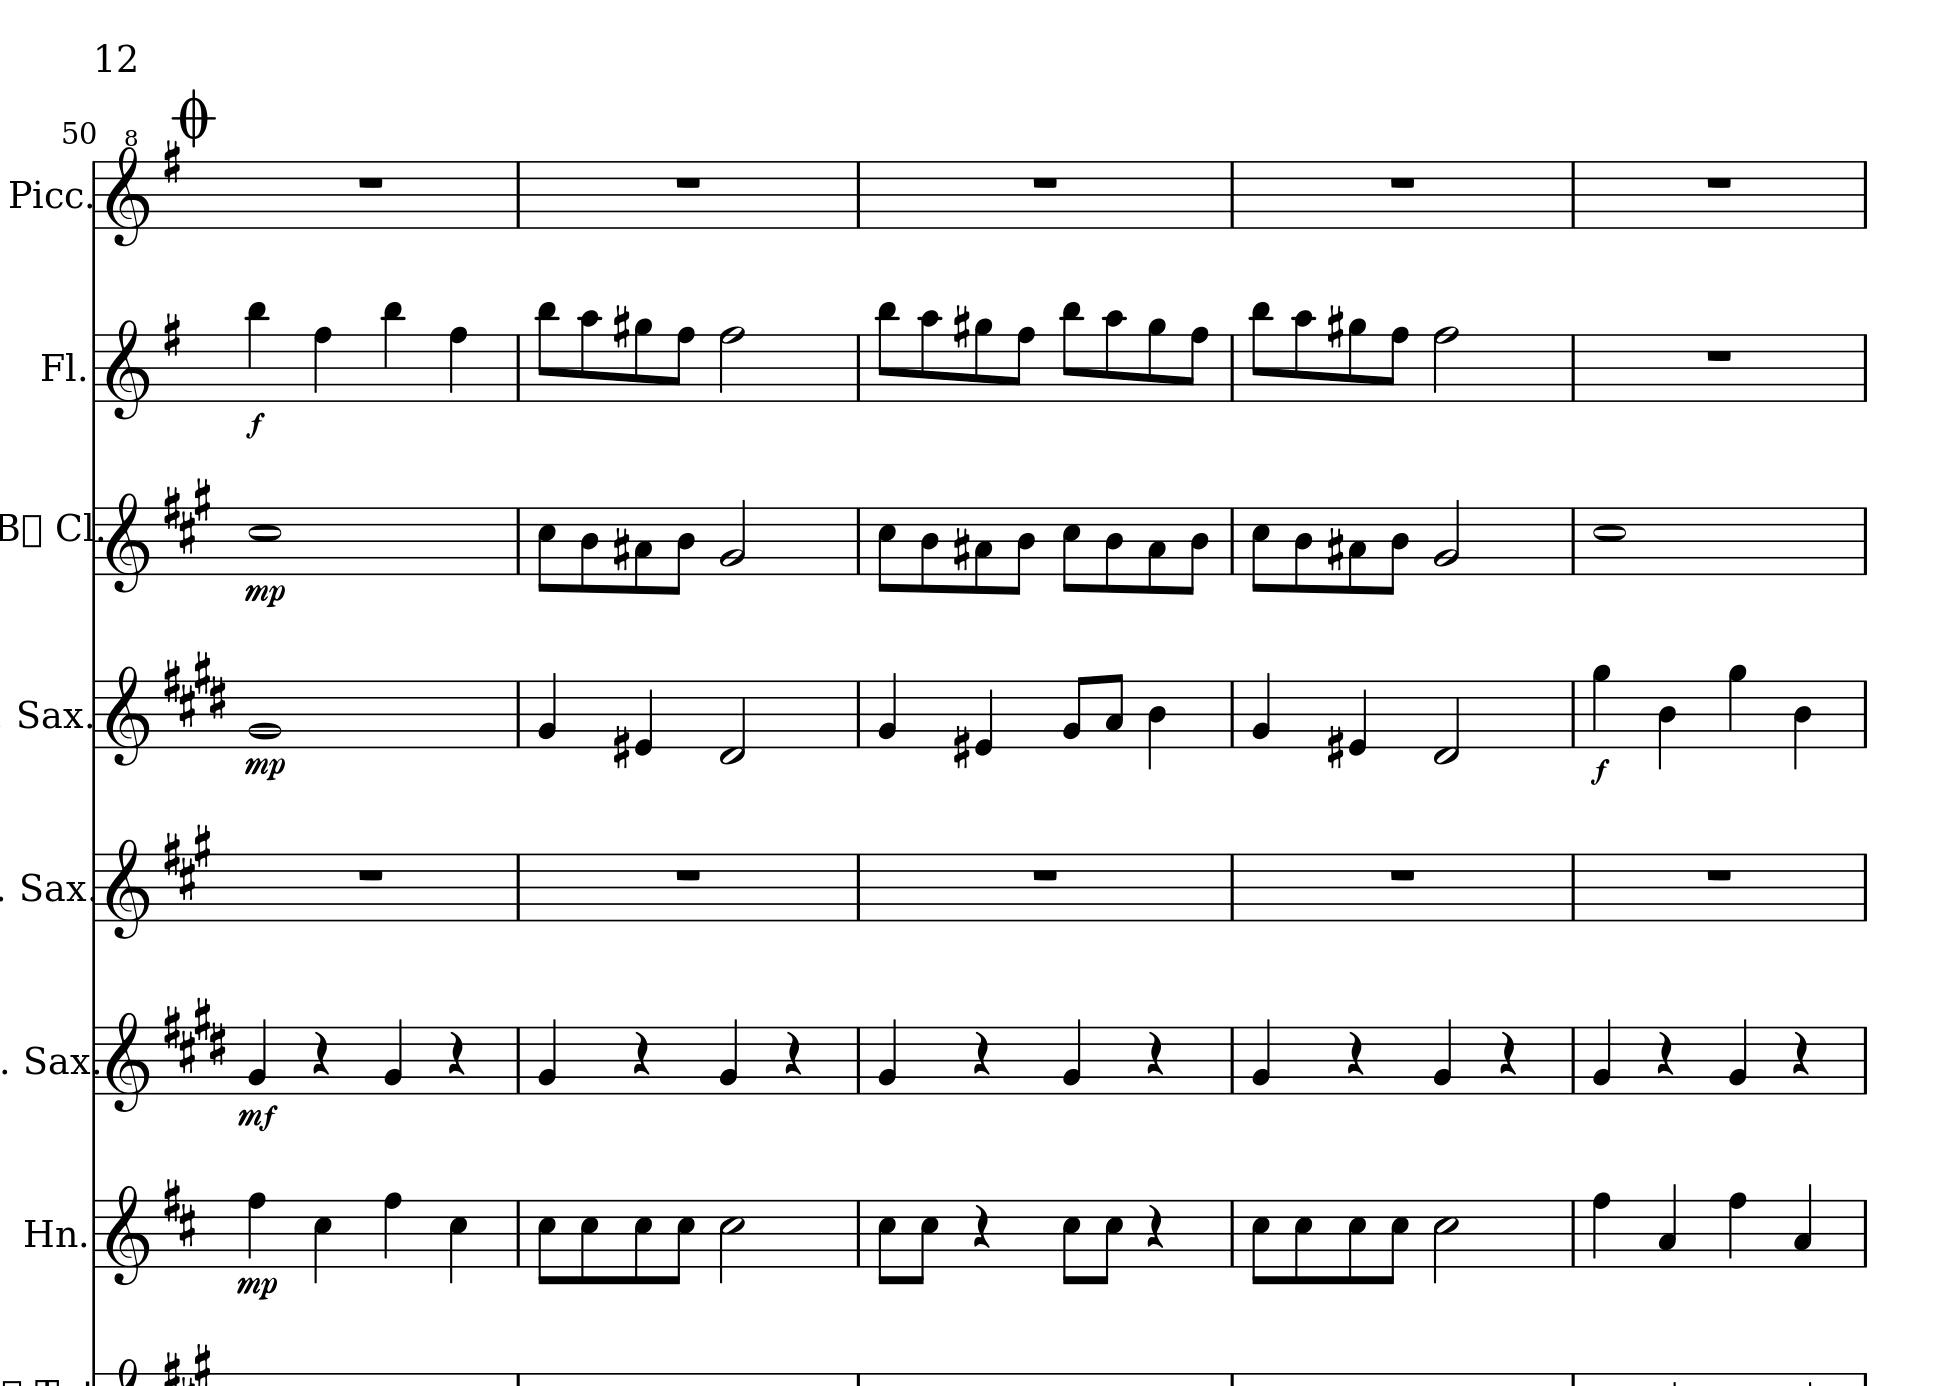0: (79, 118, 96, 147)
1: (94, 40, 111, 73)
1_2: (247, 676, 280, 748)
1_5: (1591, 505, 1627, 577), (247, 504, 282, 574)
2: (115, 40, 136, 73)
2_-1: (718, 676, 745, 765), (1434, 678, 1461, 765)
2_2: (718, 496, 747, 576), (1432, 496, 1461, 574)
2_5: (717, 1198, 745, 1285), (1432, 1198, 1459, 1285)
2_8: (1432, 324, 1461, 403), (718, 324, 745, 403)
4_0: (973, 678, 994, 756), (633, 678, 654, 754), (1347, 678, 1368, 754)
4_11: (379, 298, 405, 403), (244, 298, 268, 403)
4_2: (1431, 1015, 1455, 1096), (535, 1015, 559, 1095), (535, 670, 559, 748), (876, 1015, 898, 1096), (1062, 1015, 1084, 1096), (1251, 1015, 1273, 1096), (1591, 1015, 1614, 1096), (382, 1015, 405, 1095), (1728, 1015, 1750, 1095), (1251, 670, 1273, 748), (718, 1015, 739, 1096), (877, 670, 898, 748), (247, 1015, 268, 1093)
4_3: (1656, 1182, 1680, 1267), (1791, 1182, 1815, 1267)
4_4: (1791, 678, 1815, 769), (1146, 678, 1168, 769), (1656, 678, 1678, 769)
4_5: (312, 1197, 333, 1285), (447, 1197, 468, 1285)
4_8: (1726, 1189, 1750, 1270), (1590, 1189, 1614, 1269), (244, 1189, 268, 1267), (312, 324, 334, 403), (447, 324, 469, 403), (382, 1189, 403, 1269)
4_9: (1590, 661, 1612, 748), (1726, 661, 1749, 748)
5: (61, 118, 78, 145)
8_10: (577, 307, 601, 403), (918, 307, 940, 403), (1102, 307, 1125, 403), (1291, 307, 1314, 403)
8_11: (874, 298, 900, 403), (1059, 297, 1083, 403), (535, 298, 559, 403), (1249, 298, 1273, 403)
8_2: (1060, 673, 1089, 748)
8_3: (972, 505, 994, 597), (1146, 505, 1168, 597), (631, 505, 654, 595), (1347, 505, 1368, 597), (1104, 672, 1125, 748)
8_4: (1182, 505, 1210, 597), (669, 505, 696, 597), (1383, 505, 1410, 597), (1011, 505, 1036, 597), (577, 505, 600, 595), (918, 505, 940, 595), (1104, 505, 1125, 595), (1293, 505, 1314, 594)
8_5: (912, 1198, 940, 1285), (1098, 1198, 1125, 1287), (1383, 1198, 1410, 1285), (669, 1198, 694, 1285), (534, 504, 556, 595), (1060, 504, 1083, 594), (874, 505, 897, 594), (1249, 505, 1272, 594), (874, 1198, 897, 1287), (1249, 1198, 1272, 1287), (1060, 1198, 1083, 1285), (1345, 1198, 1368, 1285), (577, 1198, 598, 1287), (1293, 1198, 1314, 1287), (535, 1198, 556, 1285), (631, 1198, 652, 1285)
8_8: (1008, 324, 1036, 403), (667, 325, 696, 403), (1182, 325, 1210, 403), (1381, 325, 1410, 403)
8_9: (631, 315, 654, 403), (1345, 315, 1368, 403), (972, 316, 994, 403), (1146, 316, 1167, 403)
A_S: (160, 475, 214, 555), (163, 820, 214, 901)
Cl: (55, 508, 93, 544)
Coda: (172, 85, 216, 145)
D_S: (160, 1176, 198, 1249)
E_S: (160, 993, 228, 1075), (160, 648, 228, 727)
Fl: (37, 346, 79, 387)
Gclef: (103, 490, 151, 594), (105, 835, 151, 940), (105, 663, 151, 766), (106, 1009, 151, 1113), (105, 1182, 150, 1285), (105, 318, 148, 421)
High_Gclef: (106, 127, 148, 249)
Hn: (21, 1210, 78, 1254)
Picc: (4, 178, 87, 214)
Rests1: (354, 865, 388, 883), (670, 865, 705, 883), (354, 172, 387, 190), (1029, 172, 1062, 190), (1029, 865, 1062, 883), (1386, 865, 1419, 883), (672, 172, 703, 190), (1387, 172, 1419, 190), (1704, 172, 1735, 190), (1704, 346, 1735, 364), (1704, 865, 1735, 883)
Rests4: (309, 1027, 331, 1077), (970, 1027, 993, 1077), (1653, 1029, 1675, 1077), (1789, 1029, 1812, 1077), (970, 1201, 993, 1249), (630, 1029, 652, 1075), (1344, 1029, 1366, 1075), (445, 1027, 466, 1075), (781, 1029, 802, 1077), (1144, 1029, 1165, 1077), (1497, 1029, 1518, 1077), (1144, 1201, 1165, 1249)
Sax: (10, 693, 85, 738), (15, 865, 88, 910), (19, 1039, 91, 1084)
Sharp: (610, 301, 631, 349), (610, 525, 631, 573), (610, 721, 631, 769), (162, 138, 181, 186), (162, 310, 181, 358), (951, 301, 970, 349), (951, 525, 970, 573), (1324, 525, 1344, 573), (951, 721, 970, 769), (1326, 721, 1345, 769), (1326, 303, 1345, 349)
Single_barline: (508, 507, 526, 574), (1857, 1026, 1875, 1093), (850, 1027, 868, 1093), (1224, 1200, 1242, 1266), (1224, 1027, 1242, 1092), (87, 160, 103, 229), (1857, 160, 1873, 229), (1857, 333, 1873, 402), (87, 679, 103, 748), (87, 333, 103, 400), (510, 333, 526, 400), (1857, 507, 1873, 574), (1857, 679, 1873, 747), (1857, 1198, 1873, 1266), (510, 160, 526, 226), (1224, 160, 1240, 226), (1224, 334, 1240, 400), (1566, 507, 1582, 573), (510, 681, 526, 747), (1857, 853, 1873, 919), (510, 853, 526, 919), (1224, 853, 1240, 919), (510, 1200, 526, 1266), (850, 681, 867, 745), (1566, 681, 1582, 745), (510, 1027, 526, 1092), (1566, 1027, 1582, 1092), (850, 1200, 867, 1264), (1566, 1200, 1582, 1264), (88, 505, 103, 574), (88, 852, 103, 921), (88, 1024, 103, 1093), (850, 160, 865, 228), (1566, 160, 1581, 228), (850, 334, 865, 400), (1566, 334, 1581, 400), (850, 853, 865, 919), (1566, 853, 1581, 919), (850, 508, 865, 573), (1225, 681, 1240, 745), (1225, 508, 1240, 571), (87, 1198, 100, 1267)
f: (1587, 757, 1611, 784), (244, 411, 265, 439)
mf: (237, 1101, 279, 1132)
mp: (241, 756, 286, 784), (234, 1273, 279, 1302), (241, 582, 286, 609)
